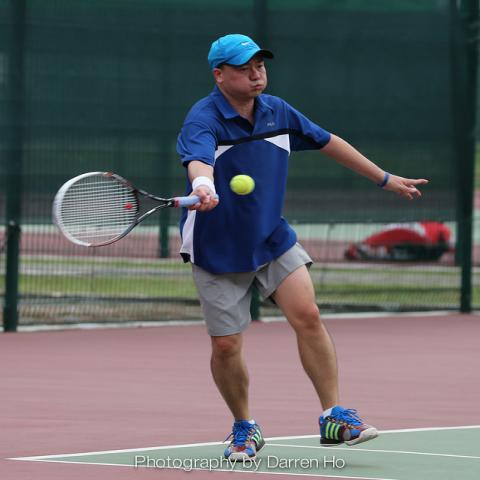car: (343, 216, 452, 262)
